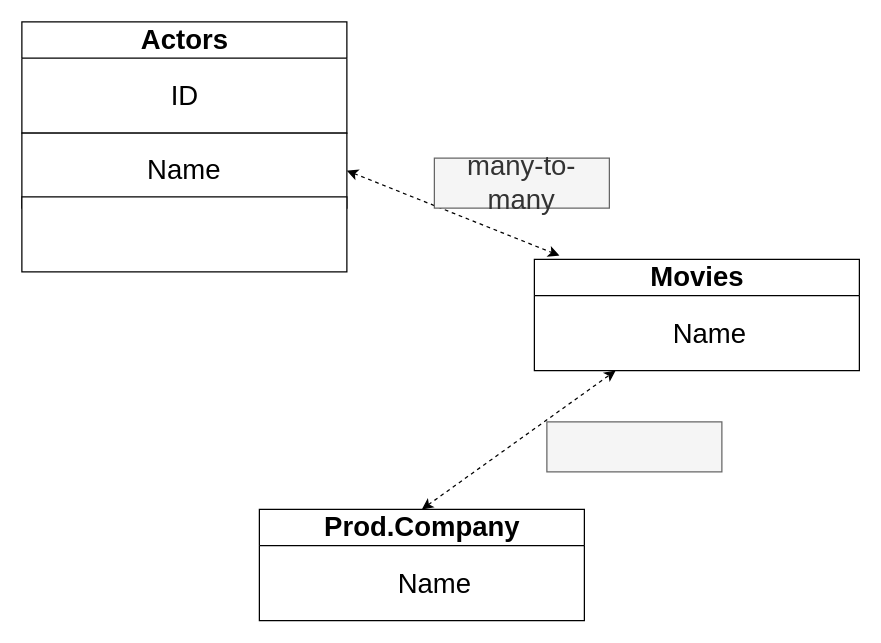
Image size: 881x643. Some labels were removed from this diagram. The shapes that lost their labels are listed below. From the top down, each one's box as (x1, y1, x2, y2) in pixels, then its label:
(21, 196, 347, 272): Surname
(546, 421, 722, 472): one-to-many
